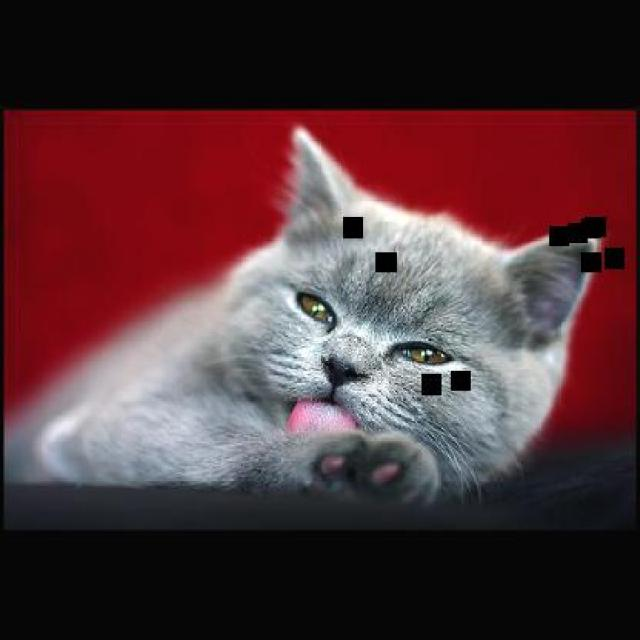unauthorized: (8, 123, 592, 508)
